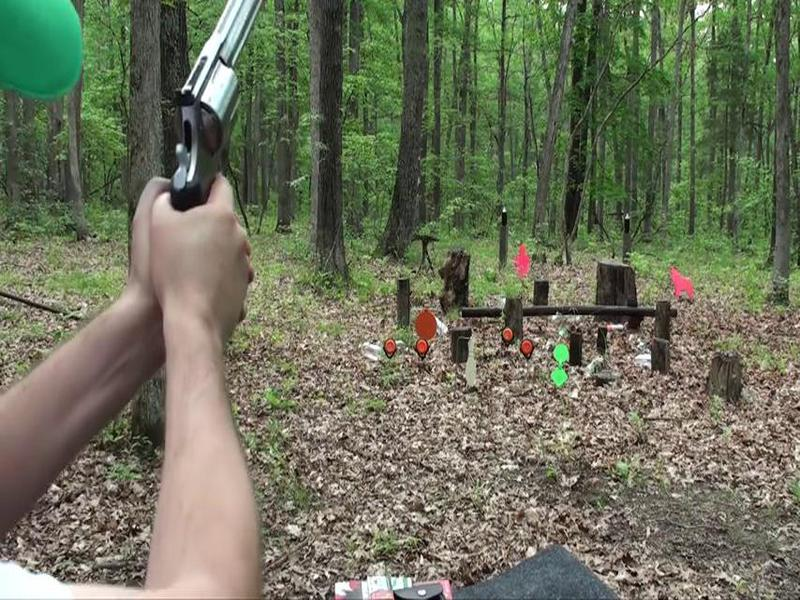Revolver: (140, 5, 268, 241)
